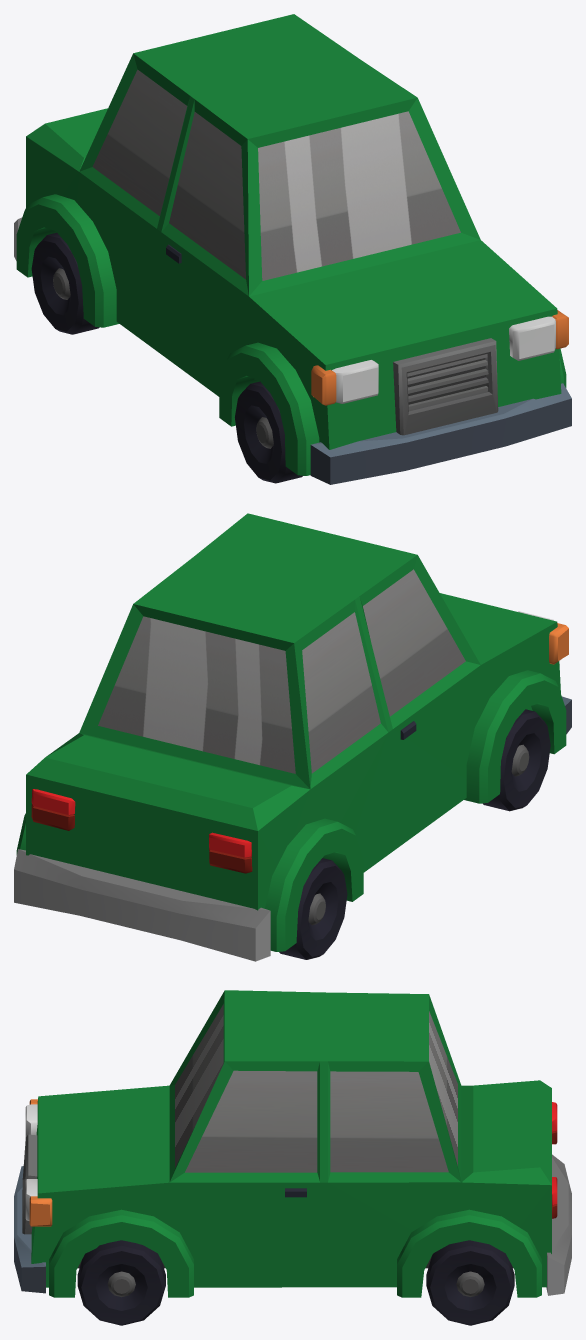
File: Car_2_17.fbx
3 views of the same model, one above another, from view 1: azimuth 30°, elevation 25°; view 2: azimuth 150°, elevation 25°; view 3: azimuth 270°, elevation 25° (orthographic). The views are drawn at different scales.
Visible parts, largest first — view 1: Car_2_17, W_BR, W_FR; view 2: Car_2_17, W_FR, W_BR; view 3: Car_2_17, W_BL, W_FL.
Boxes of the visible parts, bbox=[...] form: Car_2_17: bbox=[14, 14, 571, 484]; W_BR: bbox=[31, 232, 99, 334]; W_FR: bbox=[235, 381, 302, 483]; Car_2_17: bbox=[14, 513, 571, 961]; W_FR: bbox=[482, 709, 550, 811]; W_BR: bbox=[279, 858, 347, 959]; Car_2_17: bbox=[14, 990, 571, 1297]; W_BL: bbox=[426, 1240, 514, 1325]; W_FL: bbox=[77, 1240, 165, 1325].
Size of the model in its own units: 109 by 111 by 228.
